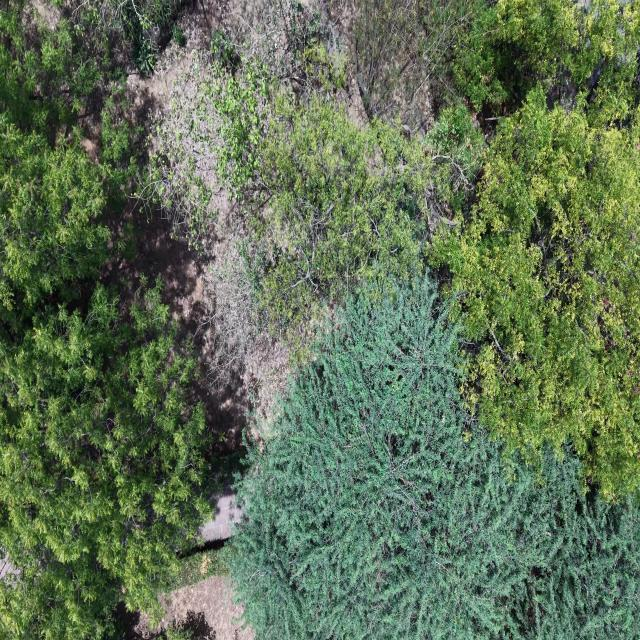DRY_AREA: (105, 189, 288, 453), (160, 576, 254, 639)
VEGETATION_TREE: (0, 0, 639, 639), (231, 3, 639, 637), (217, 3, 639, 498), (230, 278, 639, 639), (0, 6, 211, 639), (431, 2, 639, 499), (140, 56, 485, 343), (432, 91, 639, 498), (0, 286, 209, 639), (249, 94, 483, 334), (139, 3, 346, 249), (0, 6, 137, 337), (250, 95, 431, 331), (0, 8, 119, 331), (354, 0, 639, 131), (137, 34, 267, 250), (453, 0, 639, 126), (0, 122, 110, 328), (353, 0, 493, 132), (0, 4, 108, 134), (211, 0, 349, 97), (51, 0, 185, 75), (92, 0, 183, 74), (172, 549, 228, 589), (158, 611, 216, 639)
